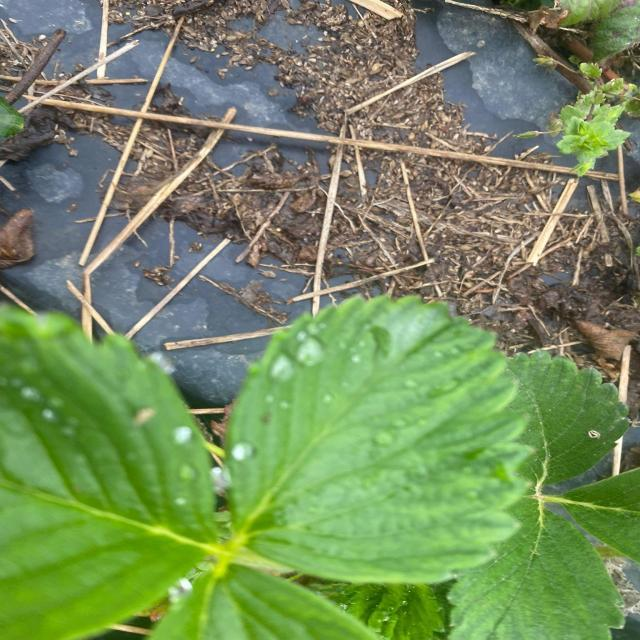flower: (0, 290, 556, 640)
